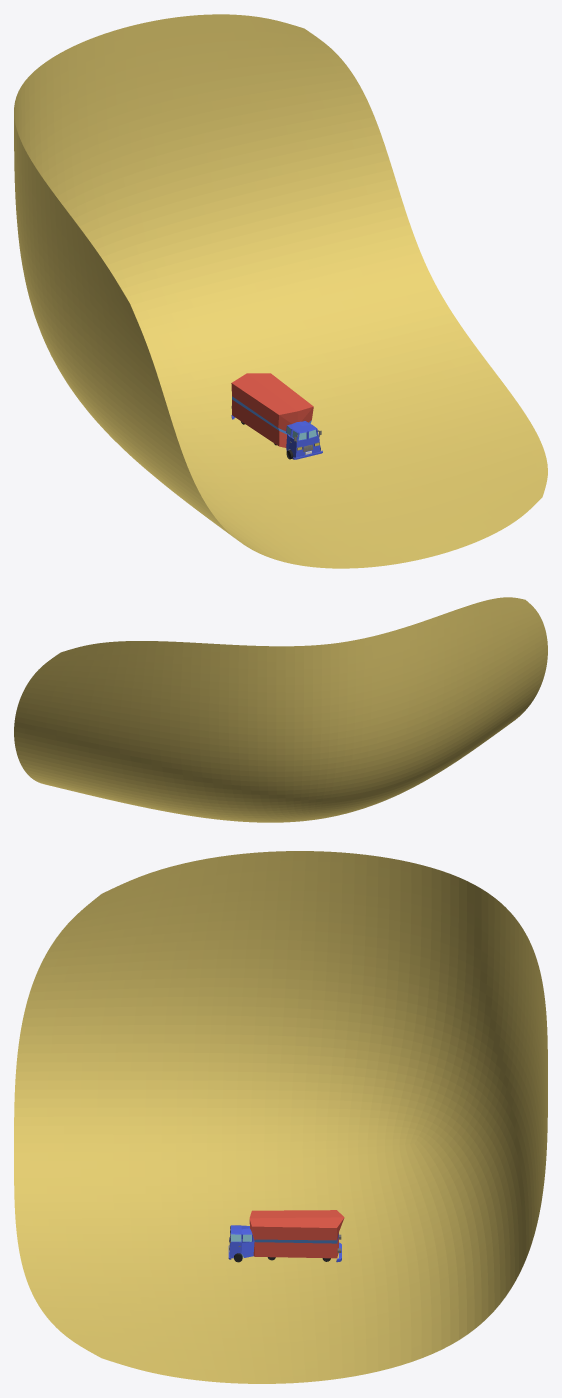
File: NEXT3D_MC2_SUBMISSION.fbx
3 renders of one model, top to bottom at view 1: azimuth 30°, elevation 25°; view 2: azimuth 150°, elevation 25°; view 3: azimuth 270°, elevation 25°, orthographic. The views are drawn at different scales.
Visible parts, largest first — view 1: Plane, Cube.002; view 2: Plane; view 3: Plane, Cube.002.
Part boxes in pixels (x1,y1,x2,y2): Plane: (14,14,547,568); Cube.002: (231,373,322,459); Plane: (14,597,547,822); Plane: (14,851,547,1383); Cube.002: (228,1210,344,1262).
Bounding box in the file's own units: 2864 × 1952 × 2864.
